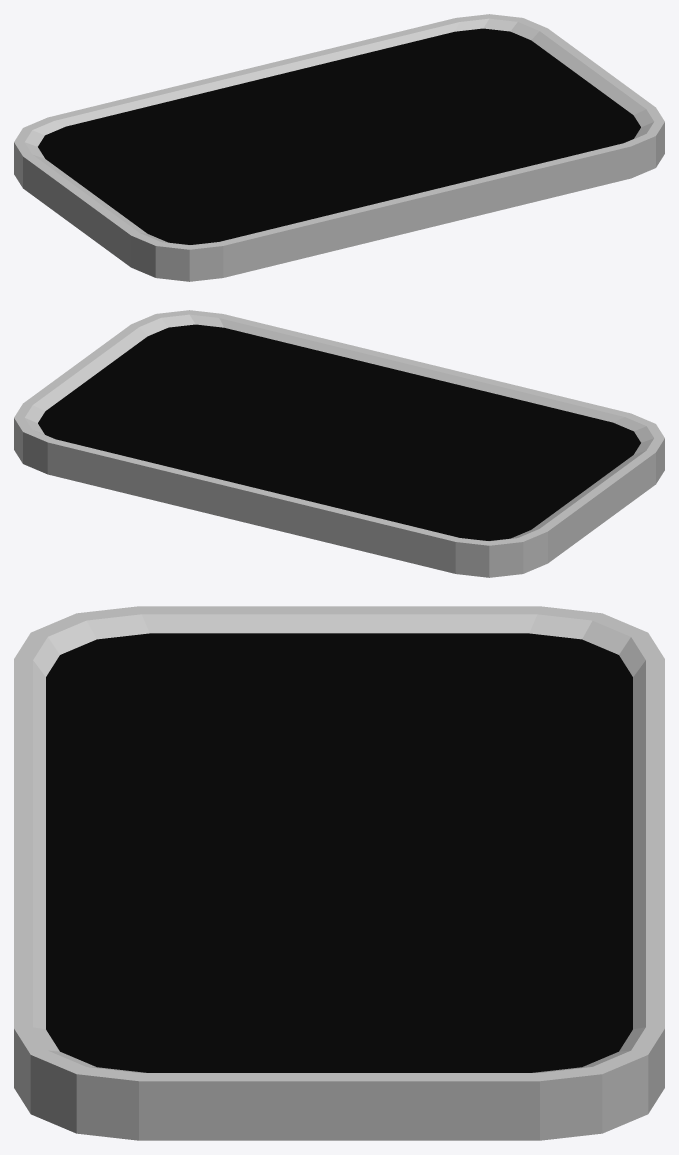
File: Mobile.fbx
The picture shows the model from 3 angles, top to bottom: view 1: azimuth 30°, elevation 25°; view 2: azimuth 150°, elevation 25°; view 3: azimuth 270°, elevation 25°; orthographic projection. The views are drawn at different scales.
Visible parts, largest first — view 1: Mobile; view 2: Mobile; view 3: Mobile.
Part boxes in pixels (<box>): Mobile: <box>14,14,664,281</box>; Mobile: <box>14,310,664,577</box>; Mobile: <box>14,606,664,1140</box>.
Size of the model in its own units: 0.0853 by 0.00498 by 0.0494.
